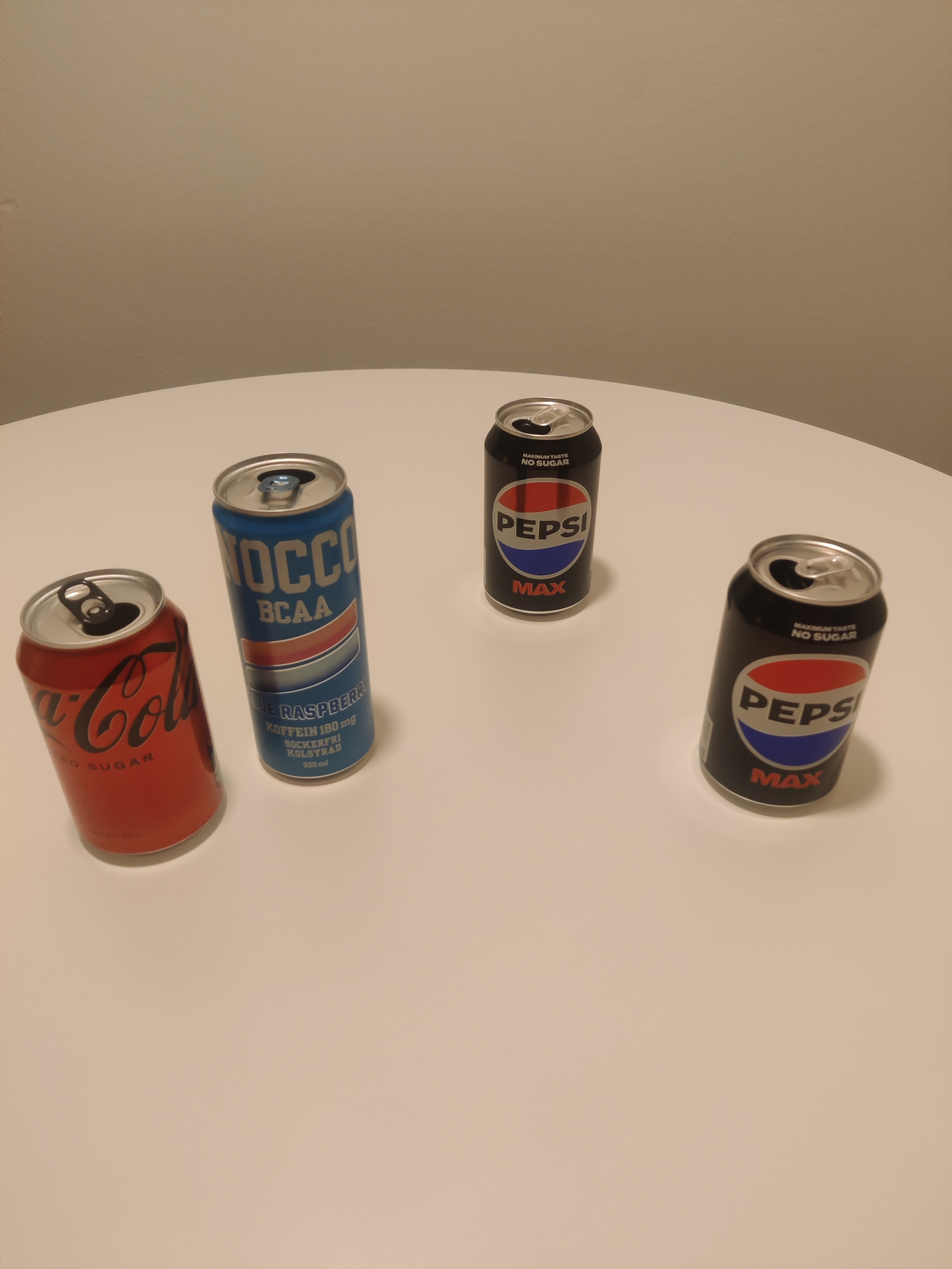Pantburk: (11, 557, 215, 877), (212, 453, 378, 784), (698, 533, 888, 807), (481, 397, 604, 616)
